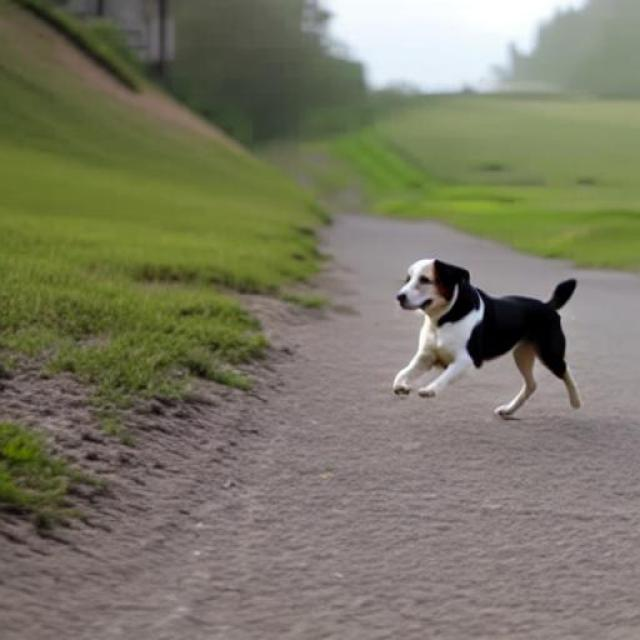Dog: (392, 259, 584, 419)
